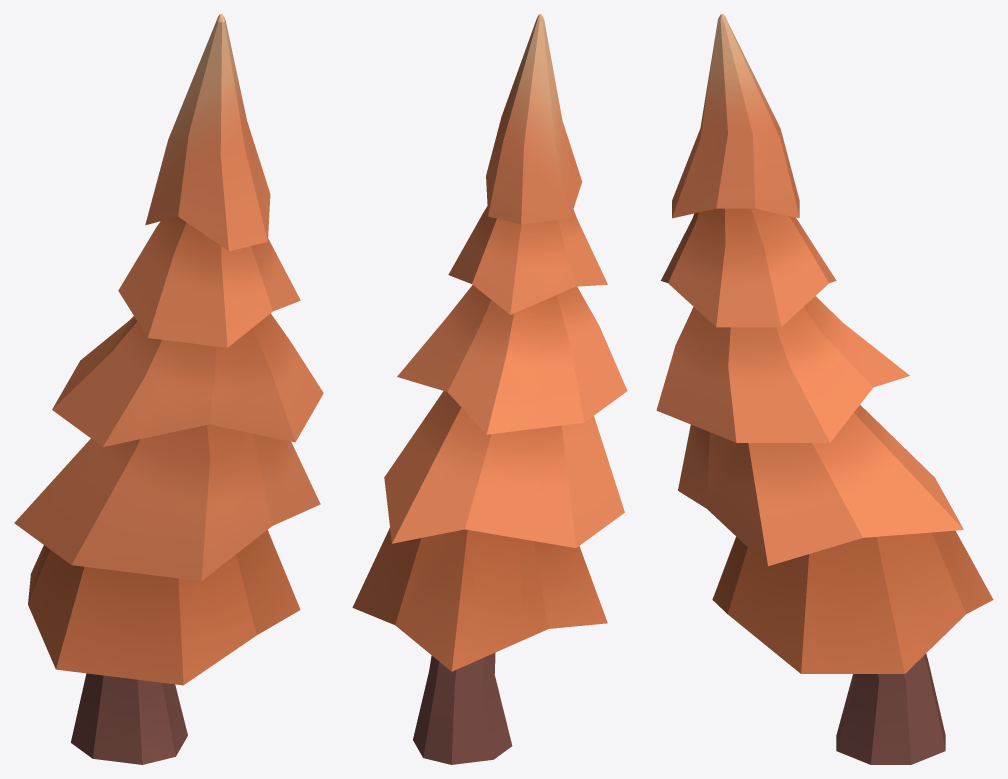
Rendered from Tree_Mesh_02.fbx.
3 renders of one model, left to right at view 1: azimuth 30°, elevation 25°; view 2: azimuth 150°, elevation 25°; view 3: azimuth 270°, elevation 25°, orthographic. The views are drawn at different scales.
Visible parts, largest first — view 1: Tree_02; view 2: Tree_02; view 3: Tree_02.
Part boxes in pixels (x1,y1,x2,y2): Tree_02: [14, 14, 323, 764]; Tree_02: [352, 14, 627, 764]; Tree_02: [656, 14, 993, 764].
Bounding box in the file's own units: 4.13 × 12.55 × 5.26.
